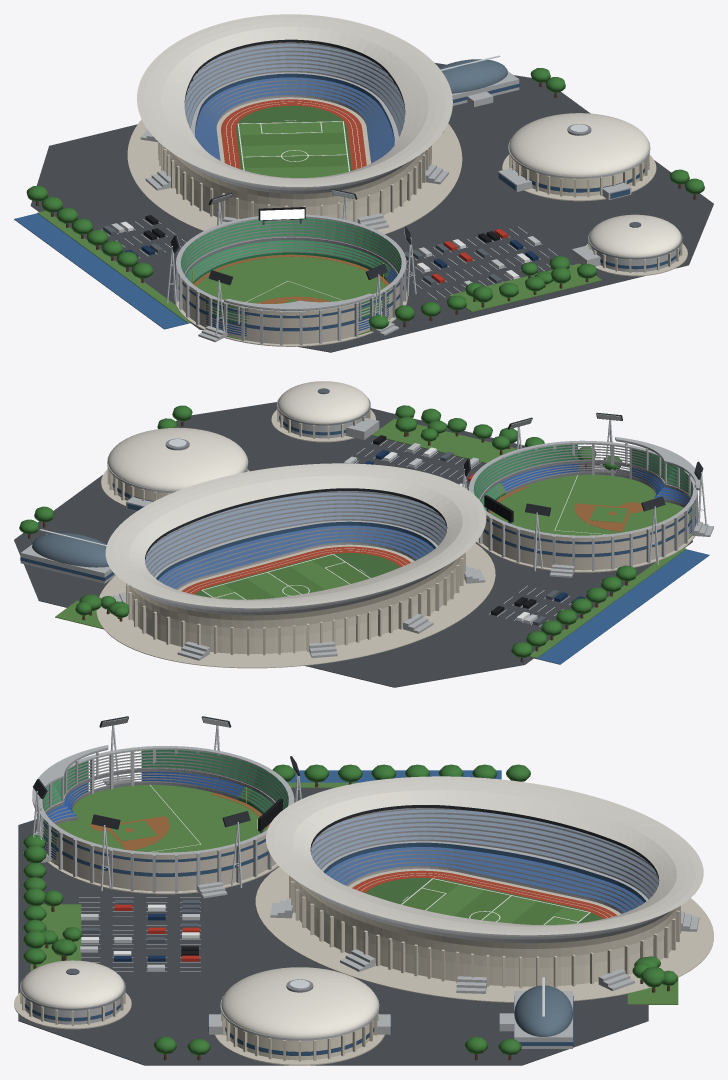
File: jamsil-sports-complex.glb
3 renders of one model, top to bottom at view 1: azimuth 30°, elevation 25°; view 2: azimuth 150°, elevation 25°; view 3: azimuth 270°, elevation 25°, orthographic. The views are drawn at different scales.
Bounding box in the file's own units: 416 × 46.9 × 416.
